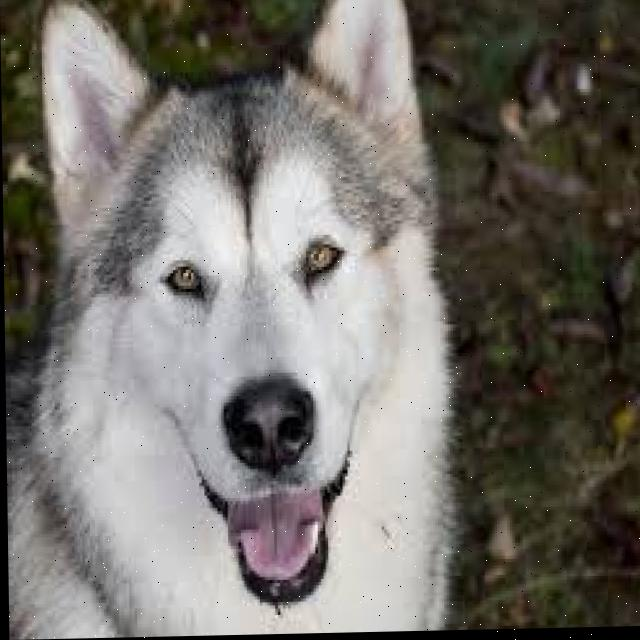ALASKAN_MALAMUTE: (0, 0, 467, 640)
